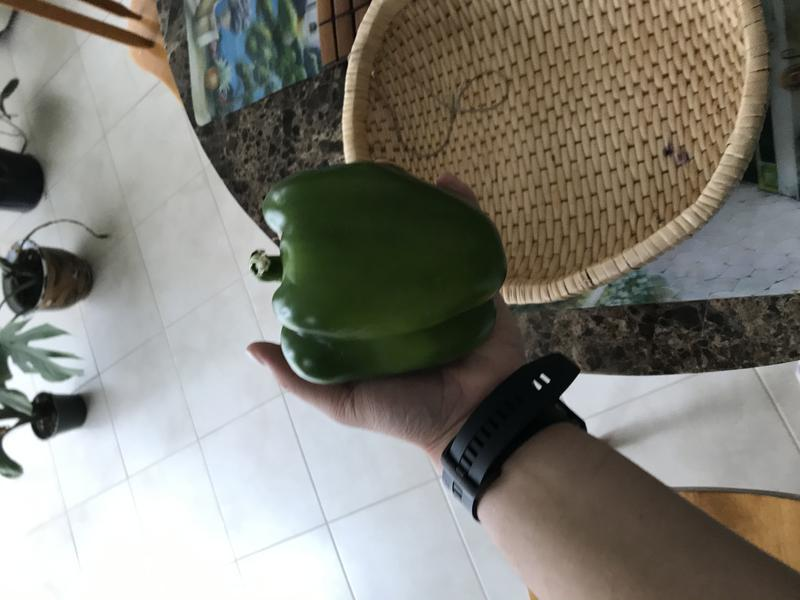green_pepper: (242, 159, 516, 391)
